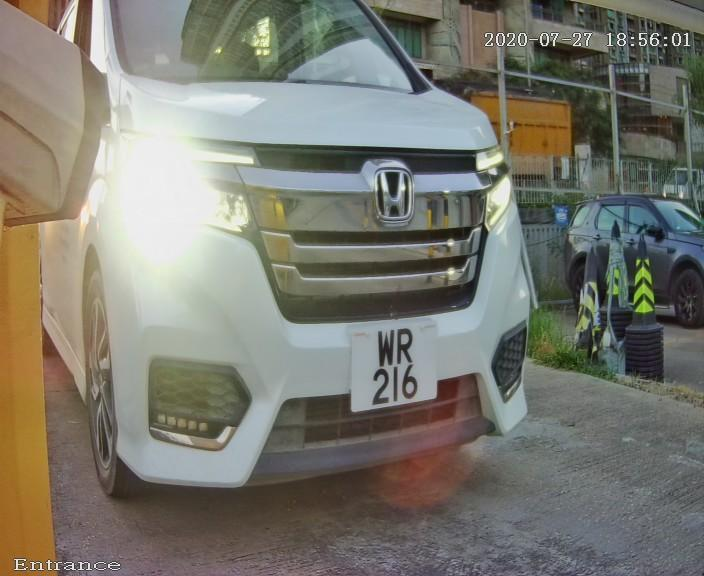privatecar: (70, 19, 557, 517)
